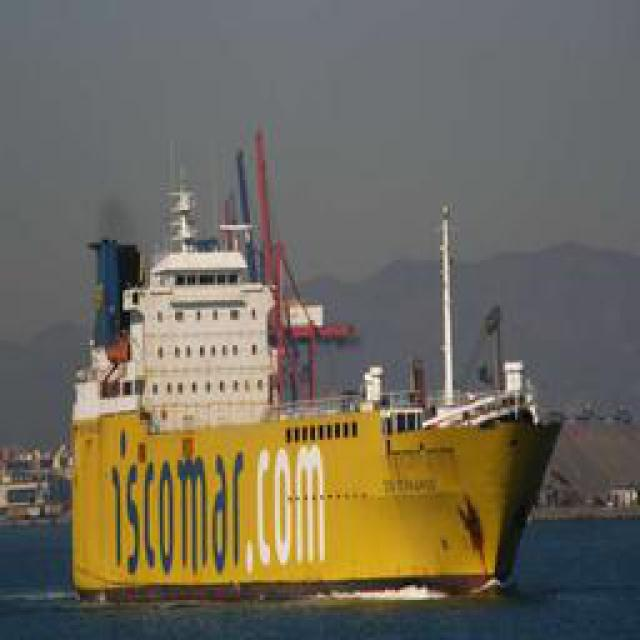Ship: (65, 142, 548, 610)
